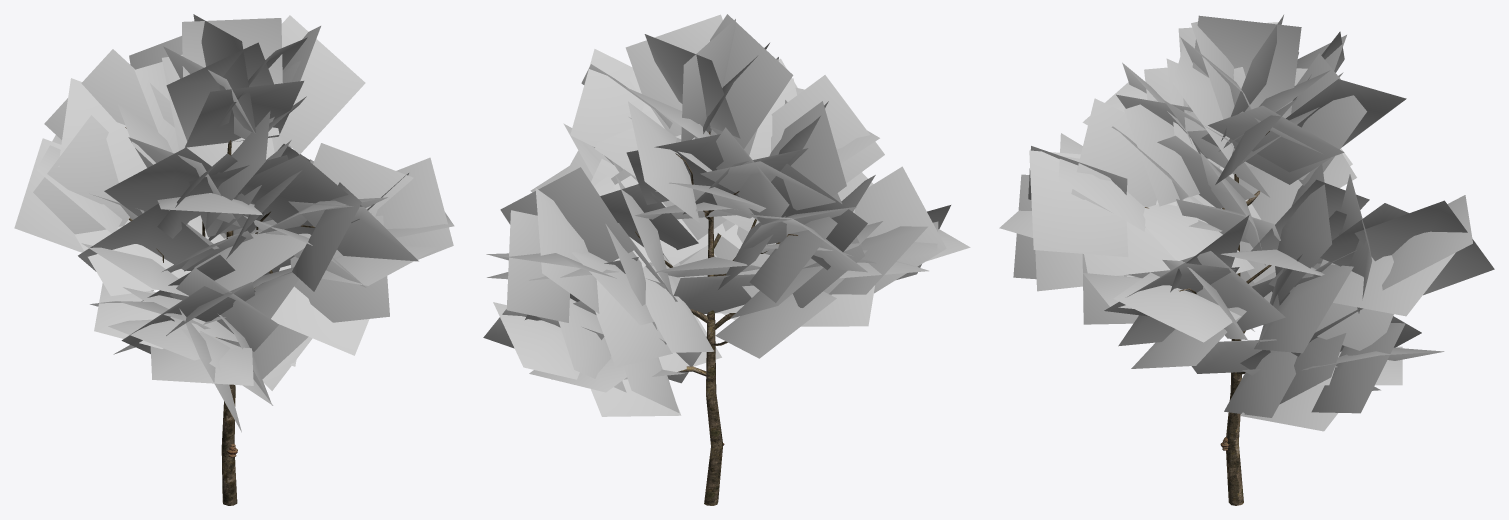
Rendered from zhiwu03.fbx.
3 renders of one model, left to right at view 1: azimuth 30°, elevation 25°; view 2: azimuth 150°, elevation 25°; view 3: azimuth 270°, elevation 25°, orthographic. The views are drawn at different scales.
Visible parts, largest first — view 1: zhiwu03; view 2: zhiwu03; view 3: zhiwu03.
Boxes of the visible parts, left/top/right/bottom form: zhiwu03: left=14, top=14, right=454, bottom=505; zhiwu03: left=483, top=14, right=970, bottom=505; zhiwu03: left=999, top=15, right=1494, bottom=505.
Size of the model in its own units: 27.1 by 32.01 by 29.72.
